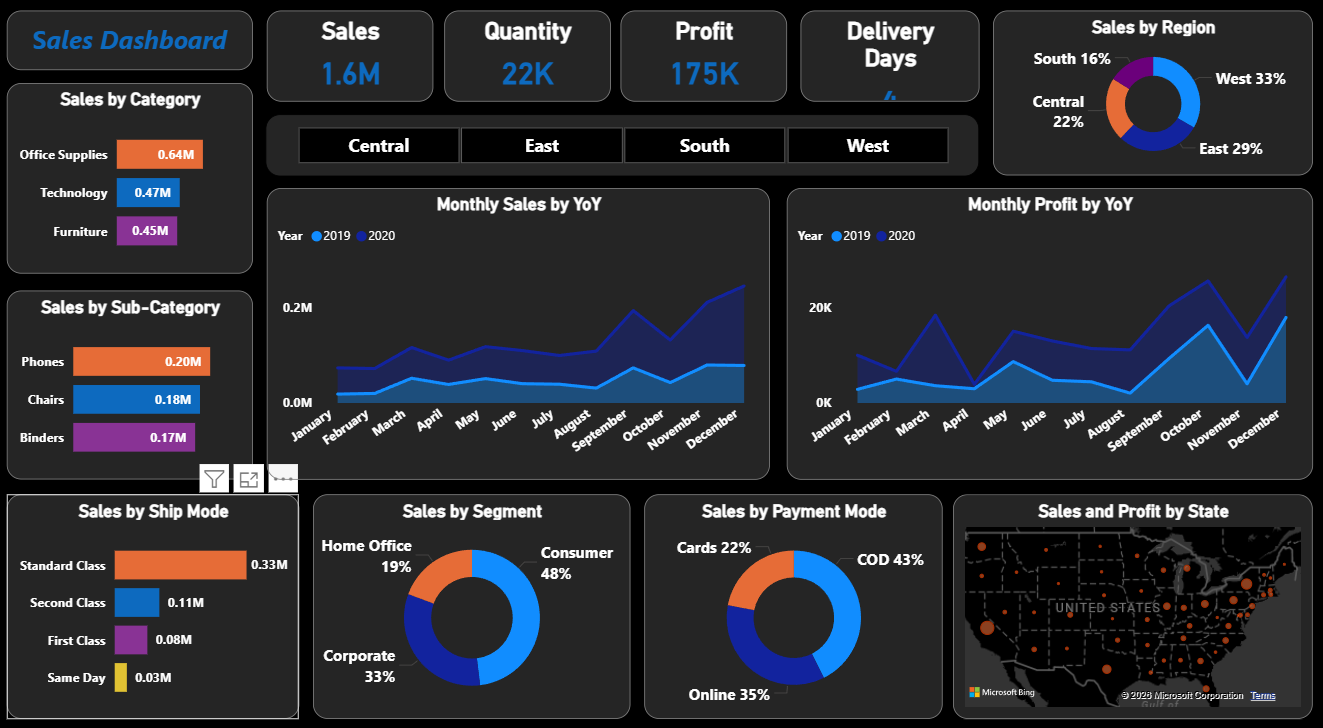

This screenshot's page, from the dashboard's own definition file:
{"tool":"powerbi","page":{"name":"Dashboard","canvas":[1280,720],"ordinal":0},"visuals":[{"type":"clusteredBarChart","title":"Sales by Category","fields":{"Category":["Sheet1.Category"],"Y":["Sum(Sheet1.Sales)"]},"box":[8.2,82.3,237.4,183.9],"z":0},{"type":"clusteredBarChart","title":"Sales by Sub-Category","fields":{"Category":["Sheet1.Sub-Category"],"Y":["Sum(Sheet1.Sales)"]},"box":[8.2,282.7,237.4,182.5],"z":1000},{"type":"clusteredBarChart","title":"Sales by Ship Mode","fields":{"Category":["Sheet1.Ship Mode"],"Y":["Sum(Sheet1.Sales)"]},"box":[8.4,479,282.3,217.2],"z":2000},{"type":"stackedAreaChart","title":"Monthly Sales by YoY","fields":{"Category":["Sheet1.Order Date.Variation.Date Hierarchy.Month"],"Y":["Sum(Sheet1.Sales)"],"Series":["Sheet1.Order Date.Variation.Date Hierarchy.Year"]},"box":[259.3,183.9,485.8,281.3],"z":3000},{"type":"stackedAreaChart","title":"Monthly Profit by YoY","fields":{"Category":["Sheet1.Order Date.Variation.Date Hierarchy.Month"],"Series":["Sheet1.Order Date.Variation.Date Hierarchy.Year"],"Y":["Sum(Sheet1.Profit)"]},"box":[761.6,183.9,507.7,281.3],"z":4000},{"type":"map","title":"Sales and Profit by State","fields":{"Category":["Sheet1.State"],"Size":["Sum(Sheet1.Sales)"]},"box":[922.1,478.9,347.2,216.8],"z":5000},{"type":"donutChart","title":"Sales by Segment","fields":{"Category":["Sheet1.Segment"],"Y":["Sum(Sheet1.Sales)"]},"box":[304,479,306.4,217.2],"z":6000},{"type":"donutChart","title":"Sales by Region","fields":{"Category":["Sheet1.Region"],"Y":["Sum(Sheet1.Sales)"]},"box":[960.6,12.3,308.7,159.2],"z":7000},{"type":"donutChart","title":"Sales by Payment Mode","fields":{"Category":["Sheet1.Payment Mode"],"Y":["Sum(Sheet1.Sales)"]},"box":[623.7,479,288.3,217.2],"z":8000},{"type":"slicer","fields":{"Values":["Sheet1.Region"]},"box":[258.5,111.7,688.9,60.4],"z":9000},{"type":"textbox","box":[8.2,12.3,237.4,57.6],"z":10000},{"type":"card","title":"Sales","fields":{"Values":["Sum(Sheet1.Sales)"]},"box":[259.1,12.6,160.5,87.8],"z":11000},{"type":"card","title":"Quantity","fields":{"Values":["Sum(Sheet1.Quantity)"]},"box":[430.7,12.1,160.5,88.1],"z":12000},{"type":"card","title":"Profit","fields":{"Values":["Sum(Sheet1.Profit)"]},"box":[600.8,12.1,160.5,88.1],"z":13000},{"type":"card","title":"Delivery Days","fields":{"Values":["Avg(Sheet1.Avg_Delivery)"]},"box":[774.5,12.1,172.5,88.1],"z":14000}]}

Visuals, with their boxes in screenshot pixels (x1, y1, x2, y2), scaled from the page's 1280x720 canvas onto the 1323x728 screenshot:
"Sales by Category" clusteredBarChart: <bbox>8, 83, 254, 269</bbox>
"Sales by Sub-Category" clusteredBarChart: <bbox>8, 286, 254, 470</bbox>
"Sales by Ship Mode" clusteredBarChart: <bbox>9, 484, 300, 704</bbox>
"Monthly Sales by YoY" stackedAreaChart: <bbox>268, 186, 770, 470</bbox>
"Monthly Profit by YoY" stackedAreaChart: <bbox>787, 186, 1312, 470</bbox>
"Sales and Profit by State" map: <bbox>953, 484, 1312, 703</bbox>
"Sales by Segment" donutChart: <bbox>314, 484, 631, 704</bbox>
"Sales by Region" donutChart: <bbox>993, 12, 1312, 173</bbox>
"Sales by Payment Mode" donutChart: <bbox>645, 484, 943, 704</bbox>
slicer - Sheet1.Region: <bbox>267, 113, 979, 174</bbox>
textbox: <bbox>8, 12, 254, 71</bbox>
"Sales" card: <bbox>268, 13, 434, 102</bbox>
"Quantity" card: <bbox>445, 12, 611, 101</bbox>
"Profit" card: <bbox>621, 12, 787, 101</bbox>
"Delivery Days" card: <bbox>801, 12, 979, 101</bbox>
